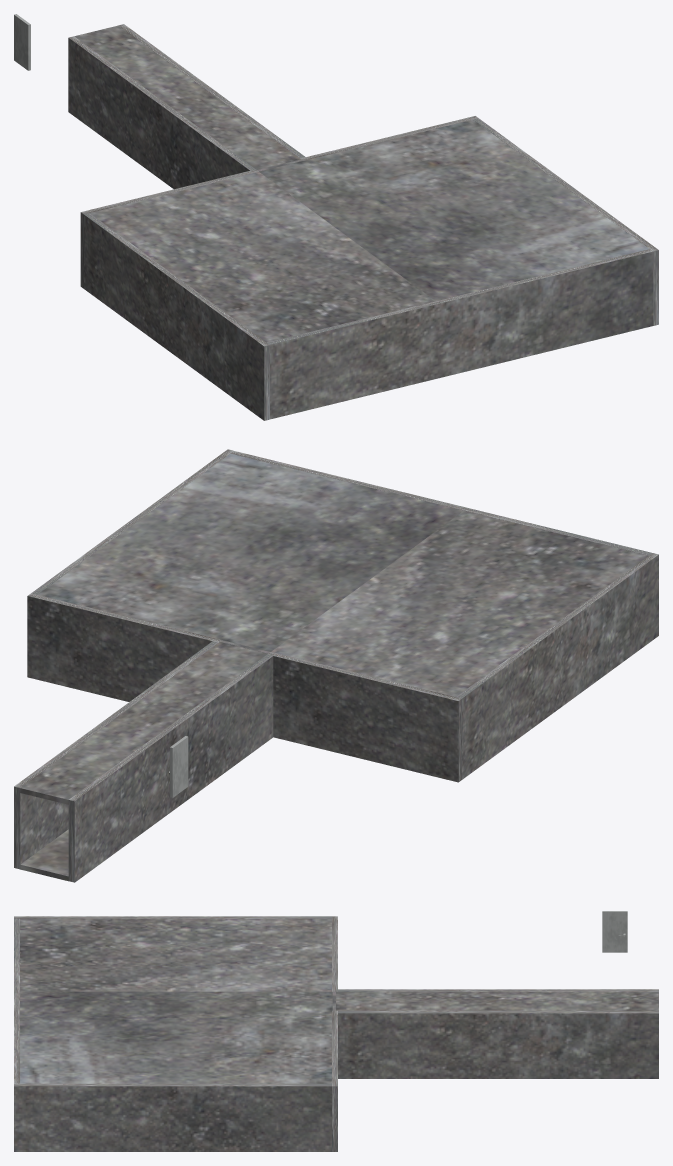
File: subterraneo.fbx
3 renders of one model, top to bottom at view 1: azimuth 30°, elevation 25°; view 2: azimuth 150°, elevation 25°; view 3: azimuth 270°, elevation 25°, orthographic. The views are drawn at different scales.
Visible parts, largest first — view 1: Cube.011, Cube.009, Cube.007, Cube.002, Cube.008, Cube.003, Cube.005, Cube.001, Cube.006; view 2: Cube.011, Cube.007, Cube.002, Cube.005, Cube.006, Cube.003, Cube.009, Cube.010, Cube.008, Cube.001; view 3: Cube.011, Cube.003, Cube.008, Cube.001, Cube.009, Cube.002, Cube.007, Cube.006, Cube.005.
Boxes of the visible parts, x1,y1,x2,y2 form: Cube.011: (74, 25, 649, 342); Cube.009: (267, 249, 653, 419); Cube.007: (84, 213, 269, 420); Cube.002: (68, 36, 255, 189); Cube.008: (473, 118, 658, 325); Cube.003: (118, 24, 305, 158); Cube.005: (80, 169, 258, 288); Cube.001: (14, 14, 30, 70); Cube.006: (300, 116, 478, 160); Cube.011: (20, 453, 648, 804); Cube.007: (456, 553, 658, 779); Cube.002: (68, 654, 273, 882); Cube.005: (267, 652, 461, 782); Cube.006: (27, 593, 221, 701); Cube.003: (14, 641, 218, 869); Cube.009: (230, 451, 652, 555); Cube.010: (20, 640, 269, 881); Cube.008: (31, 449, 233, 594); Cube.001: (169, 736, 188, 797); Cube.011: (20, 918, 658, 1083); Cube.003: (338, 1010, 658, 1078); Cube.008: (14, 1083, 331, 1151); Cube.001: (602, 911, 627, 952); Cube.009: (14, 918, 19, 1083); Cube.002: (338, 989, 658, 991); Cube.007: (14, 916, 331, 918); Cube.006: (332, 1010, 337, 1151); Cube.005: (332, 916, 337, 991).
Bounding box in the file's own units: 714 × 221 × 1145.
Materials: 2 (2 with a texture image).
